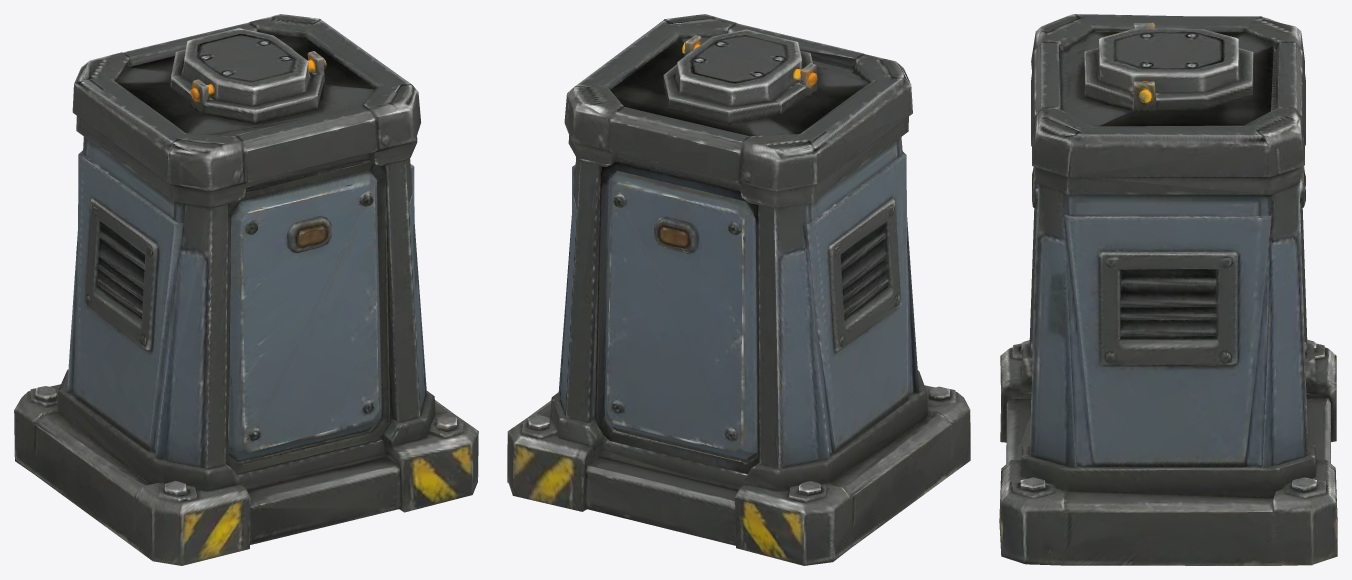
File: bunker.glb
3 renders of one model, left to right at view 1: azimuth 30°, elevation 25°; view 2: azimuth 150°, elevation 25°; view 3: azimuth 270°, elevation 25°, orthographic. The views are drawn at different scales.
Visible parts, largest first — view 1: mesh_node; view 2: mesh_node; view 3: mesh_node.
Part boxes in pixels (x1,y1,x2,y2): mesh_node: (14,14,478,565); mesh_node: (507,14,970,565); mesh_node: (999,14,1337,565).
Size of the model in its own units: 0.8281 by 1 by 0.7089.
1 material, 1 textured.
